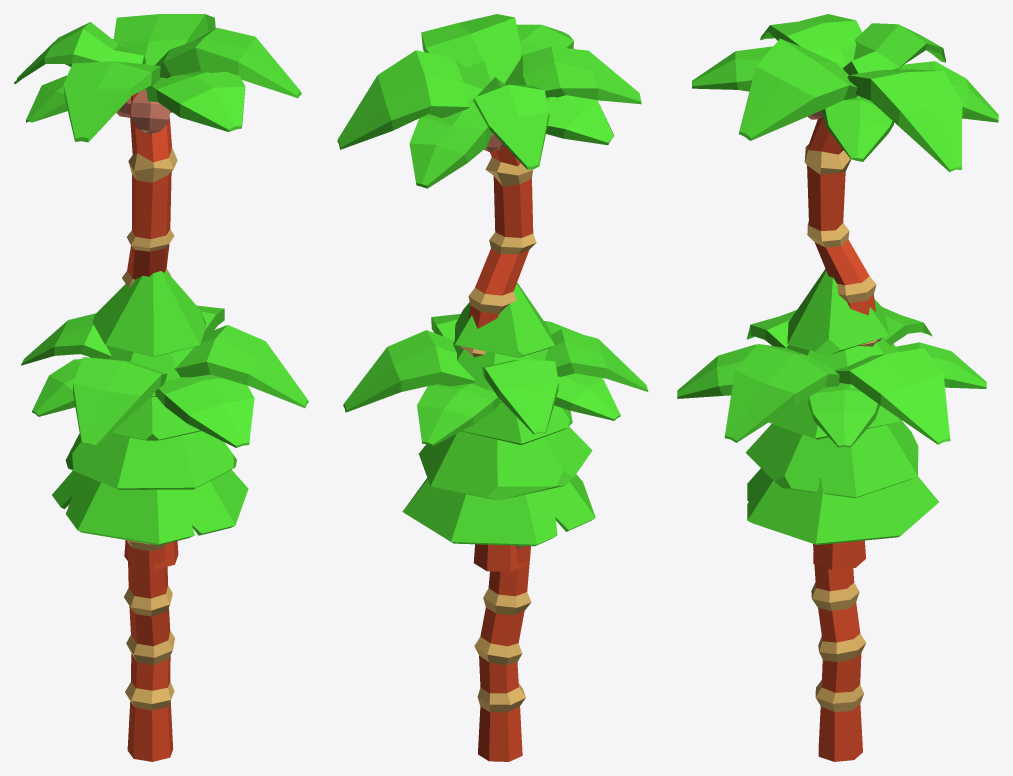
File: tree 2.fbx
3 views of the same model, side by side, from view 1: azimuth 30°, elevation 25°; view 2: azimuth 150°, elevation 25°; view 3: azimuth 270°, elevation 25° (orthographic).
Visible parts, largest first — view 1: Tree 5 LOD_0, Tree 6 LOD_0, tree 4 LOD_0; view 2: Tree 6 LOD_0, Tree 5 LOD_0, tree 4 LOD_0; view 3: Tree 6 LOD_0, Tree 5 LOD_0, tree 4 LOD_0.
Part boxes in pixels (<box>): Tree 5 LOD_0: <box>21,305,308,761</box>; Tree 6 LOD_0: <box>14,14,301,287</box>; tree 4 LOD_0: <box>52,270,248,569</box>; Tree 6 LOD_0: <box>337,14,641,357</box>; Tree 5 LOD_0: <box>343,314,648,761</box>; tree 4 LOD_0: <box>402,282,595,571</box>; Tree 6 LOD_0: <box>692,14,998,346</box>; Tree 5 LOD_0: <box>677,307,986,761</box>; tree 4 LOD_0: <box>745,269,938,569</box>.
Size of what is drawn, in the model's own units: 578 by 1689 by 683.
